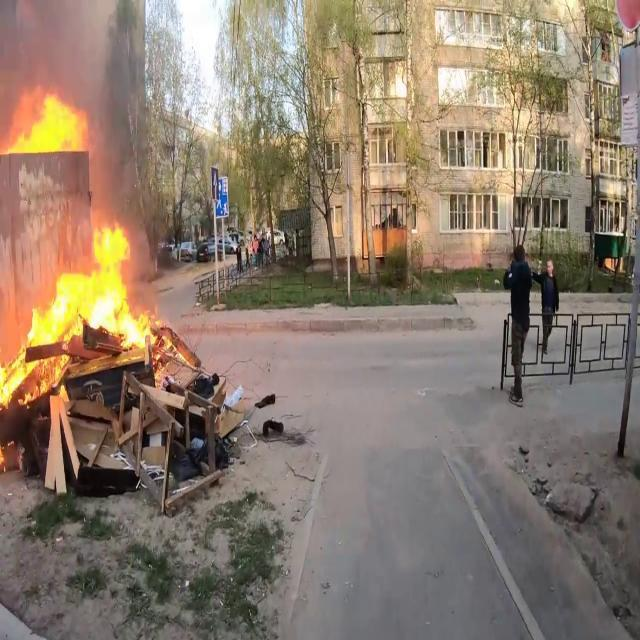Fire: (0, 216, 176, 438), (1, 86, 92, 154)
